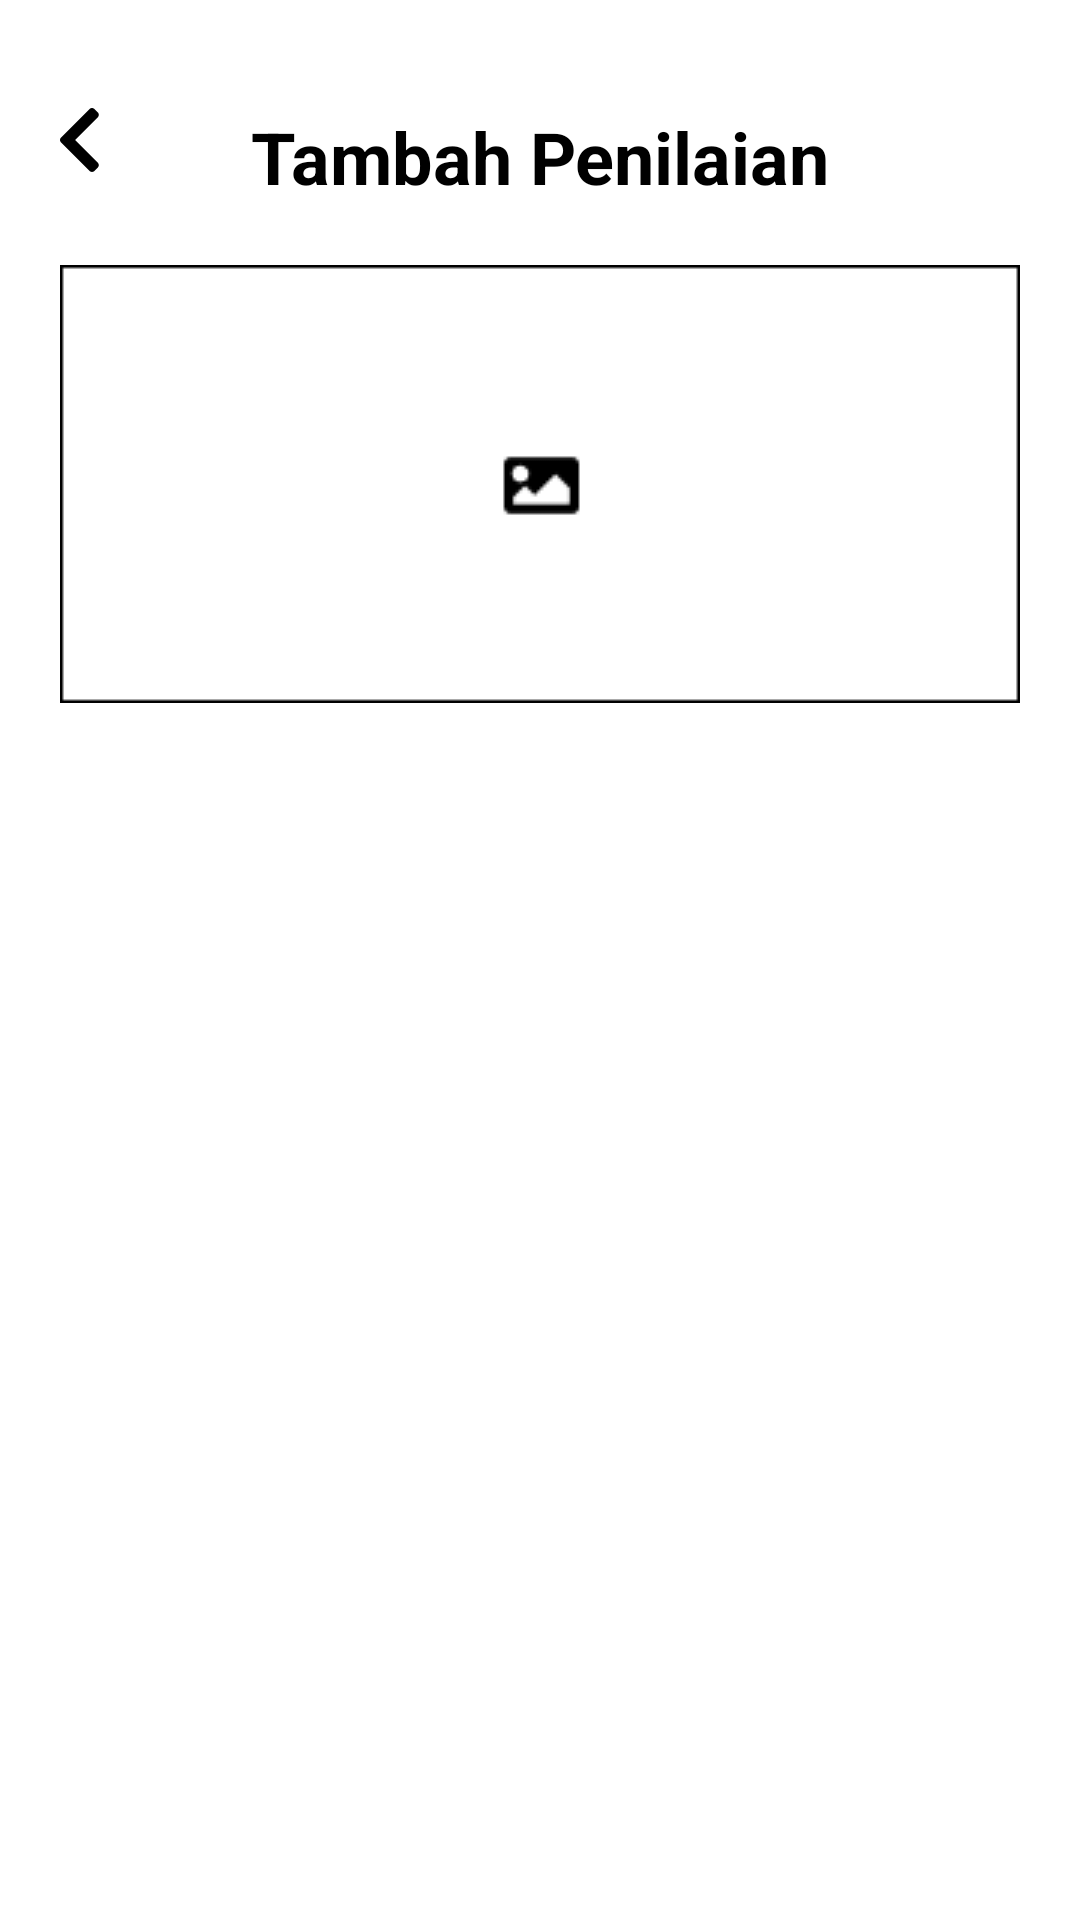

Where icons sit on this 1080 x 1920 app screen, as box=[x1, y1, x2, y2]:
back: box=[60, 108, 99, 172]
